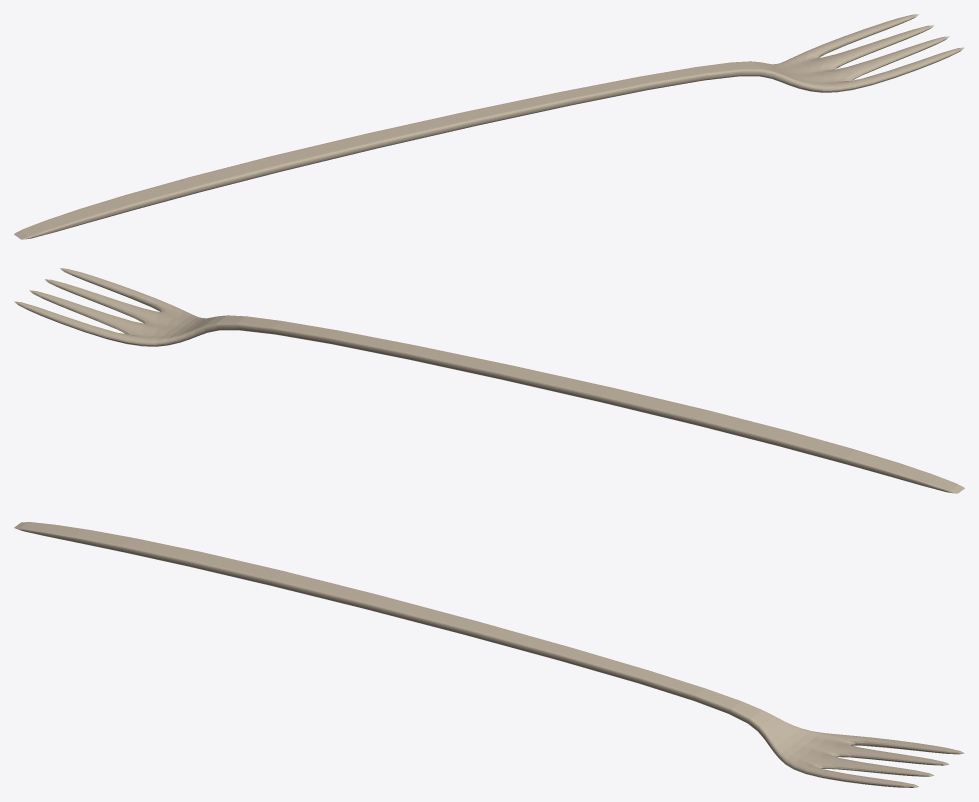
The model's file is 3dcodebench_Fork_seed0.glb.
3 renders of one model, top to bottom at view 1: azimuth 30°, elevation 25°; view 2: azimuth 150°, elevation 25°; view 3: azimuth 330°, elevation 25°, orthographic.
Parts seen in each view (by area): view 1: object; view 2: object; view 3: object.
Part boxes in pixels (left/top/right/bottom): object: left=14, top=14, right=964, bottom=239; object: left=14, top=268, right=964, bottom=493; object: left=14, top=522, right=964, bottom=787.
Bounding box in the file's own units: 0.2502 × 0.0128 × 0.0248.
